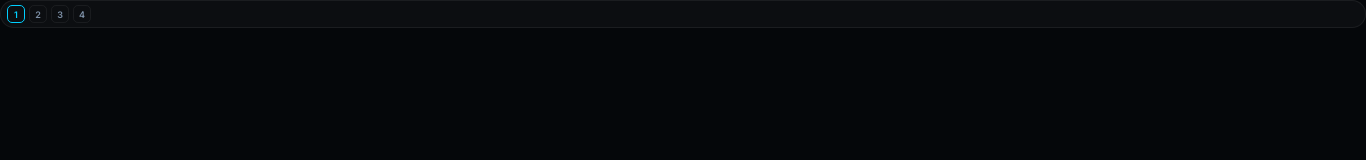
it: seletor de desktops › carregar num muda de desktop
Click the button named "Desktop 3": point(60, 14) x1=51 y1=5 x2=69 y2=23
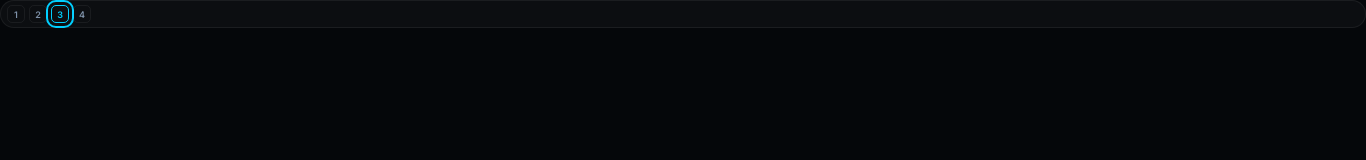
Now the button named "Desktop 3 (atual)" is shown, box x1=51 y1=5 x2=69 y2=23
